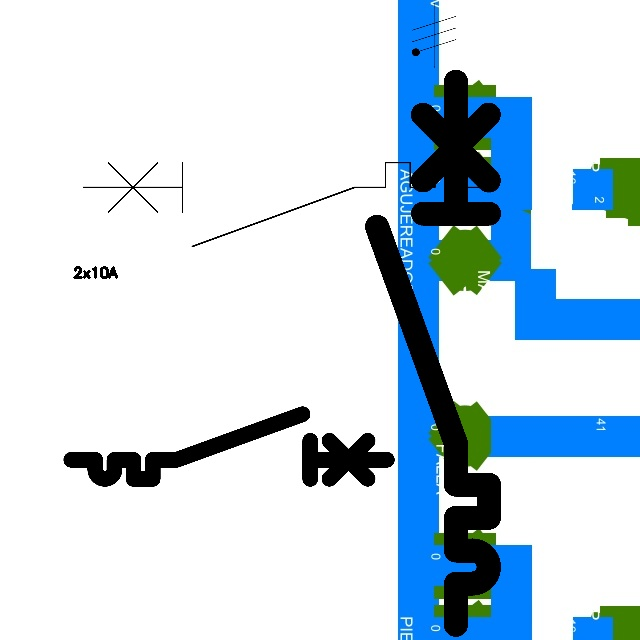interruptor_termomagnetico: (363, 67, 503, 638), (73, 152, 501, 256), (63, 406, 395, 487)
